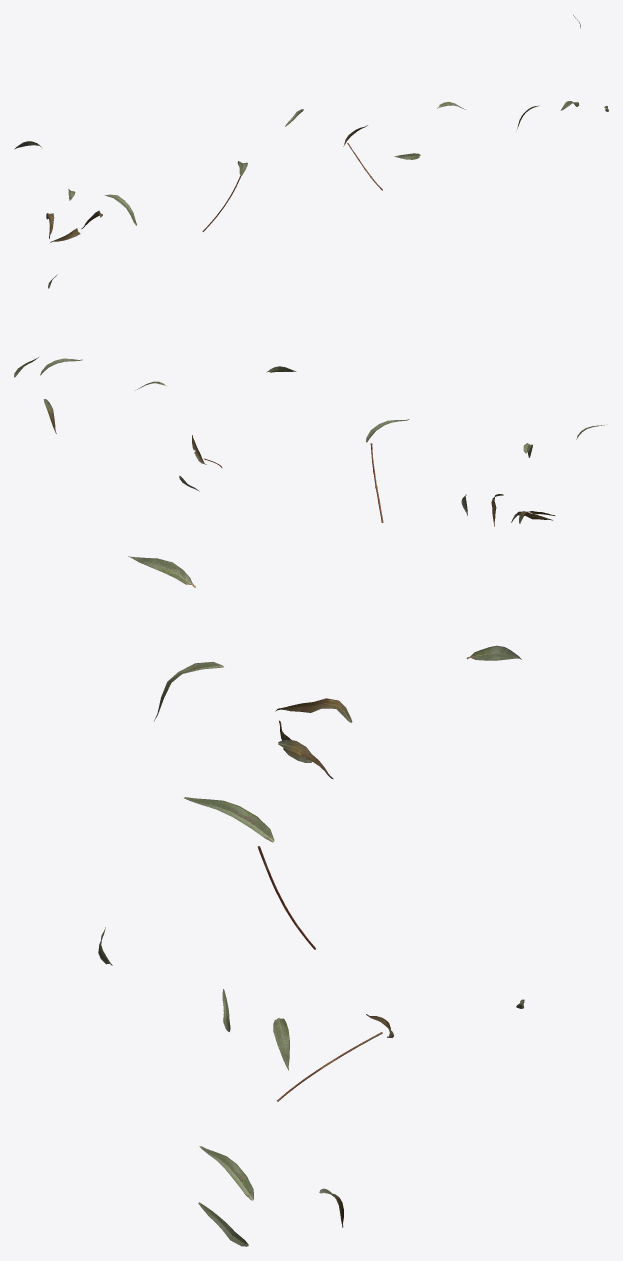
The model's file is shrub_02.glb.
The picture shows the model from 3 angles, top to bottom: view 1: azimuth 30°, elevation 25°; view 2: azimuth 150°, elevation 25°; view 3: azimuth 270°, elevation 25°; orthographic projection. The views are drawn at different scales.
Visible parts, largest first — view 1: shrub_02_a; view 2: shrub_02_a; view 3: shrub_02_a.
Boxes of the visible parts, x1=… form: shrub_02_a: x1=14, y1=15, x2=608, y2=242; shrub_02_a: x1=14, y1=274, x2=604, y2=526; shrub_02_a: x1=98, y1=556, x2=524, y2=1246.
Size of the model in its own units: 5.44 by 1.37 by 1.78.
1 material, 1 textured.
